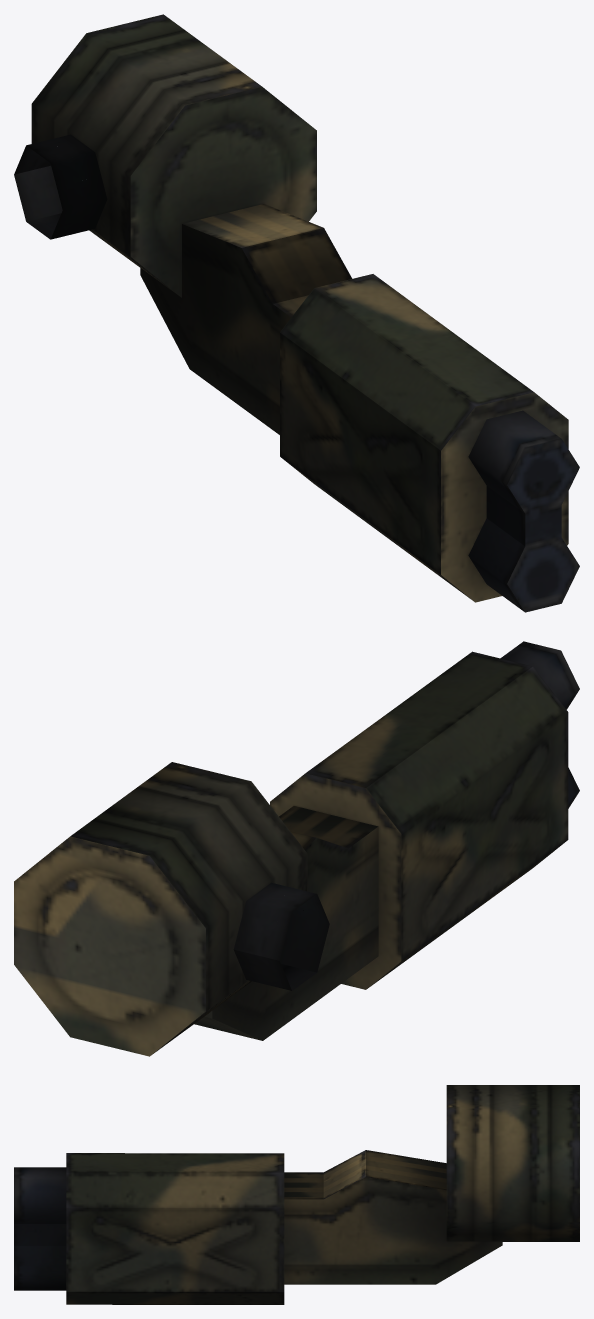
File: Mech02_Weapon_L.FBX
The picture shows the model from 3 angles, top to bottom: view 1: azimuth 30°, elevation 25°; view 2: azimuth 150°, elevation 25°; view 3: azimuth 270°, elevation 25°; orthographic projection. The views are drawn at different scales.
Visible parts, largest first — view 1: Weapon_L; view 2: Weapon_L; view 3: Weapon_L.
Boxes of the visible parts, box(x1,y1,x2,y2) form: Weapon_L: box(14, 14, 579, 612); Weapon_L: box(14, 641, 579, 1056); Weapon_L: box(14, 1085, 579, 1304).
Bounding box in the file's own units: 344 × 417 × 1081.
